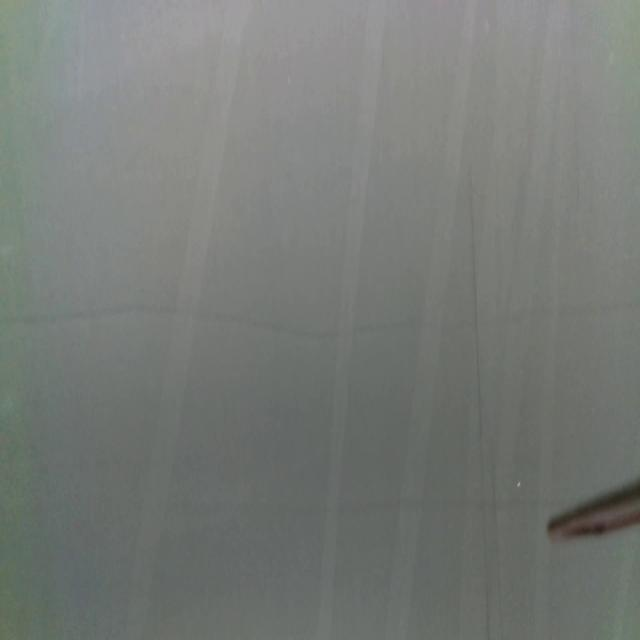color bleeding: (0, 296, 640, 346), (328, 482, 550, 527)
crease: (122, 0, 251, 638), (387, 0, 478, 636), (316, 1, 390, 632), (536, 2, 572, 508), (468, 178, 501, 640)
